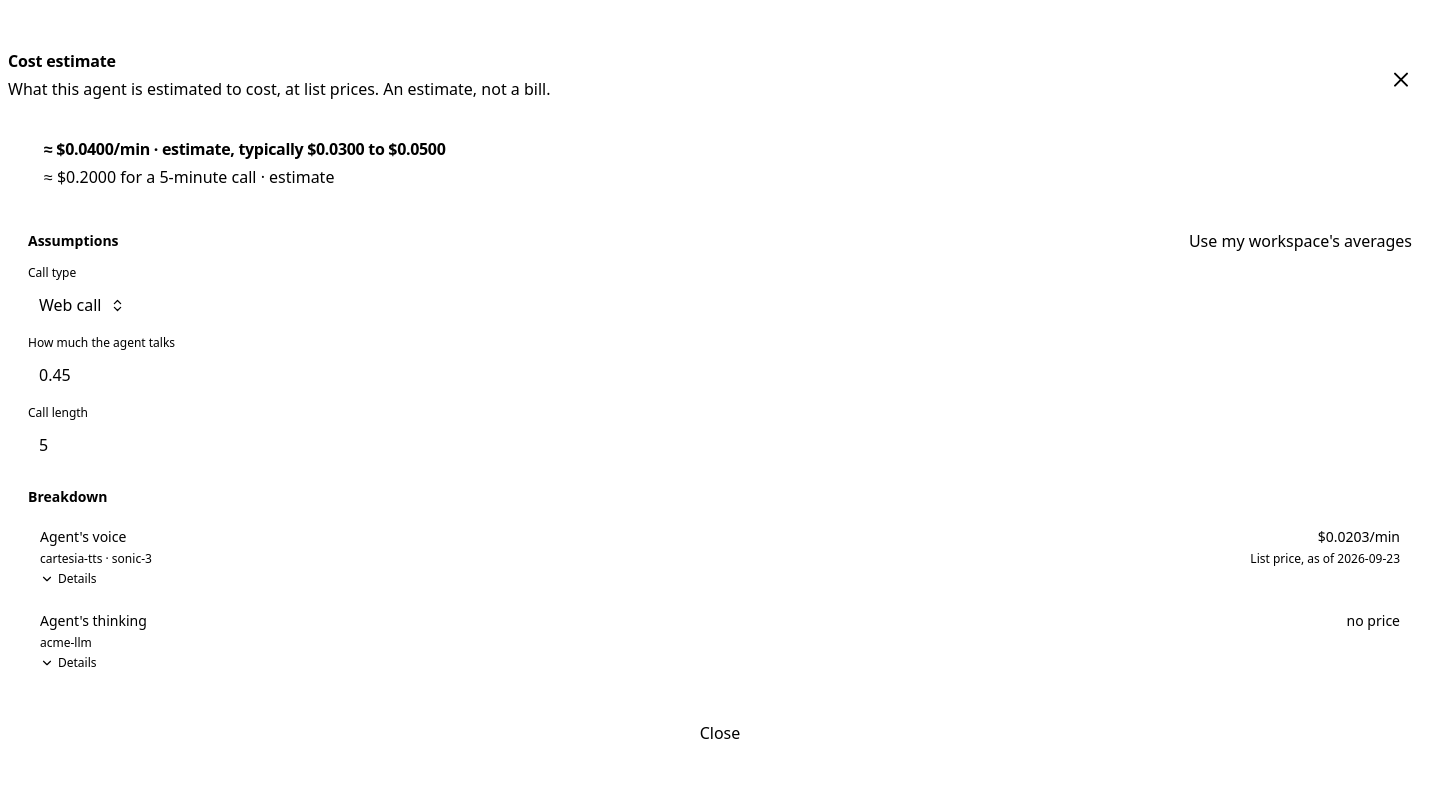
Test: CostEstimateDialog › disables 'Use my workspace's averages' under 10 sessions, posts workspace_averages once enabled, and marks the assumption's source
The width and height of the screenshot is (1440, 810).
Click the button "Use my workspace's averages": (1296, 241) top-left (1181, 229), bottom-right (1412, 253)
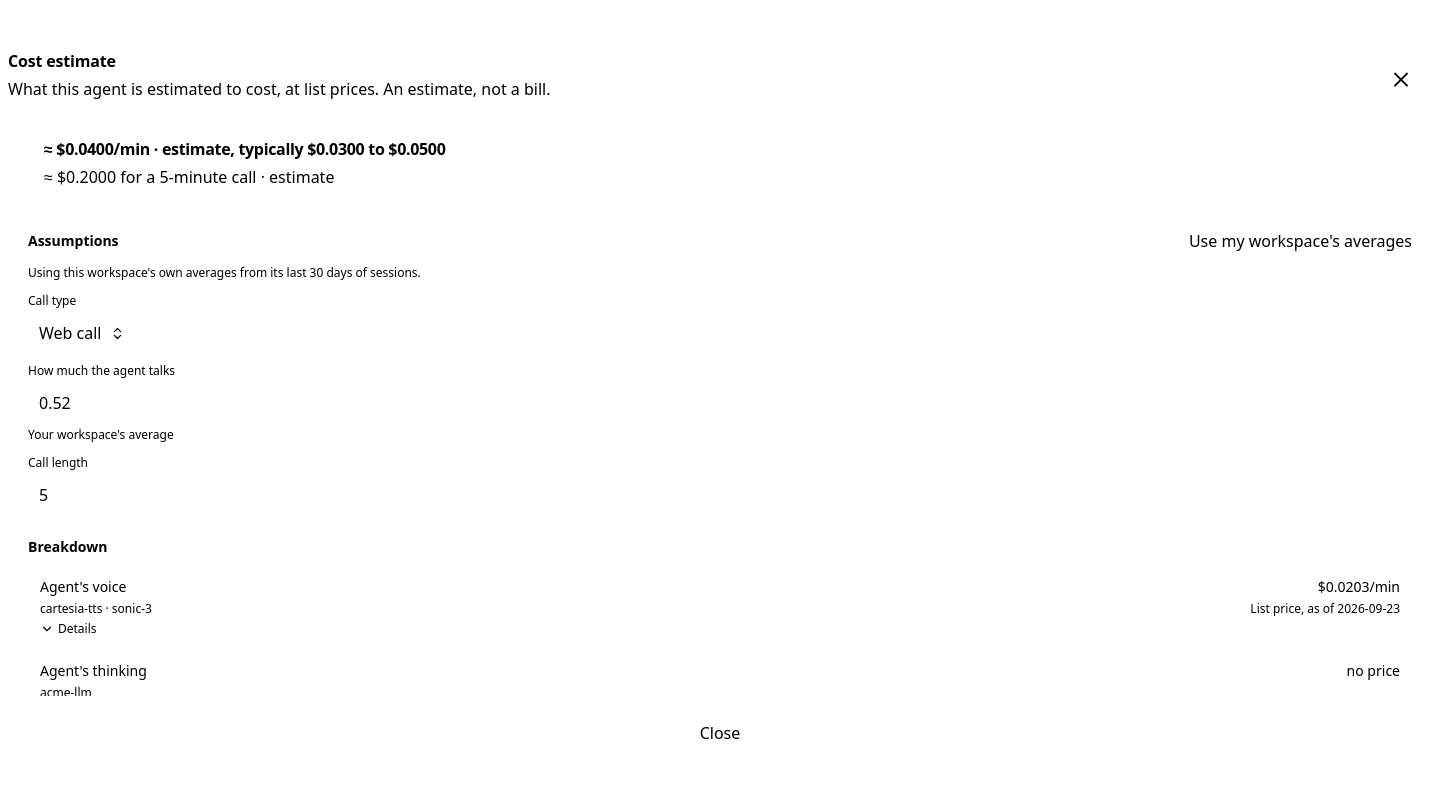
Expected: the text "Your workspace's average" is shown, top-left (28, 426), bottom-right (174, 443)
Expected: the field labelled "How much the agent talks" holds "0.52", top-left (28, 385), bottom-right (1412, 421)
